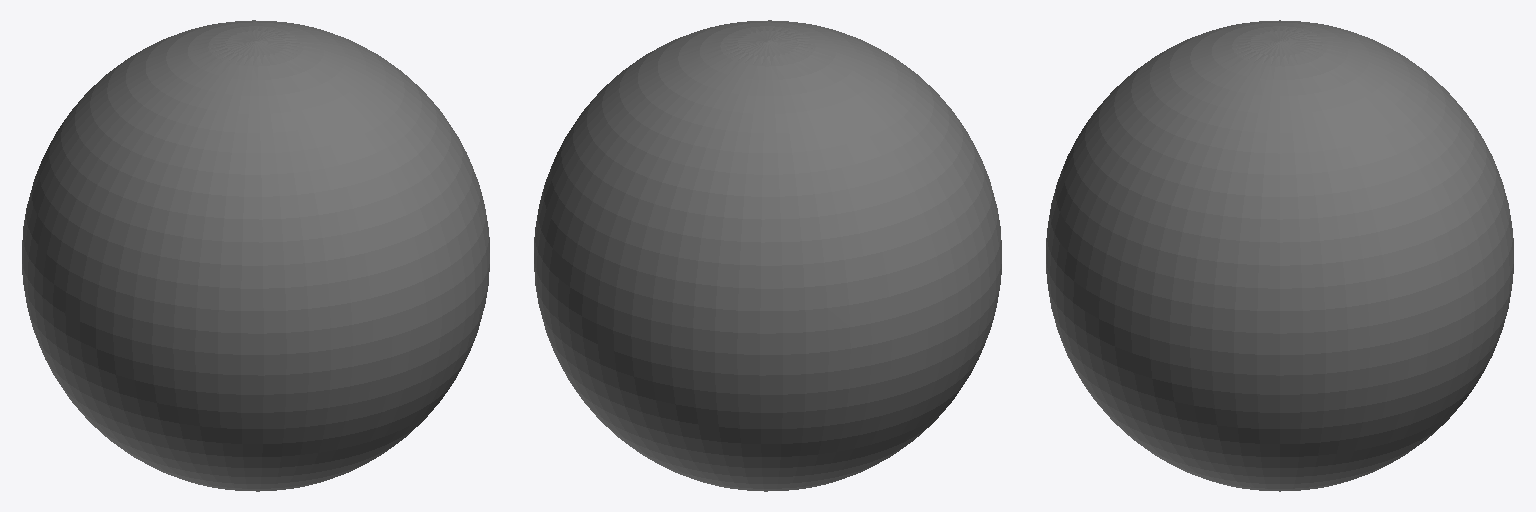
URDF robot description (ball_bounce_x_2-0):
<?xml version="1.0"?>
<robot name="ball_bounce_x_2-0">
  <link name="base">
    <visual>
      <geometry>
        <mesh filename="ball_bounce_x_2-0.obj" scale="1 1 1"/>
      </geometry>
      <material name="gray">
        <color rgba="0.5 0.5 0.5 1.0"/>
      </material>
    </visual>
    <collision>
      <geometry>
        <mesh filename="ball_bounce_x_2-0.obj" scale="1 1 1"/>
      </geometry>
    </collision>
    <inertial>
      <mass value="1.000"/>
      <inertia
          ixx="0.017517" ixy="0.000000" ixz="0.000000"
          iyy="0.017517" iyz="0.000000"
          izz="0.017334"/>
      <origin xyz="0.000000 -2.008746 0.264837" rpy="0 0 0"/>
    </inertial>
  </link>
</robot>

--- What the picture shows (computed from the rendered views, not written in the file) ---
Views: 3 orthographic renders of the robot side by side, from view 1: azimuth 30°, elevation 25°; view 2: azimuth 150°, elevation 25°; view 3: azimuth 270°, elevation 25°.
Robot: ball_bounce_x_2-0 — 1 links, 0 joints (none); root link base; default pose: every joint at zero.
Visible links, largest first — view 1: base; view 2: base; view 3: base.
Boxes of the visible links, x1=… form: base: x1=22, y1=20, x2=489, y2=491; base: x1=534, y1=20, x2=1001, y2=491; base: x1=1046, y1=20, x2=1513, y2=491.
Bounding box of the posed robot: 0.3225 × 0.3225 × 0.3259 m (x, y, z).
Meshes: 1 distinct files referenced, 1 mesh visuals loaded (1 OBJ).
